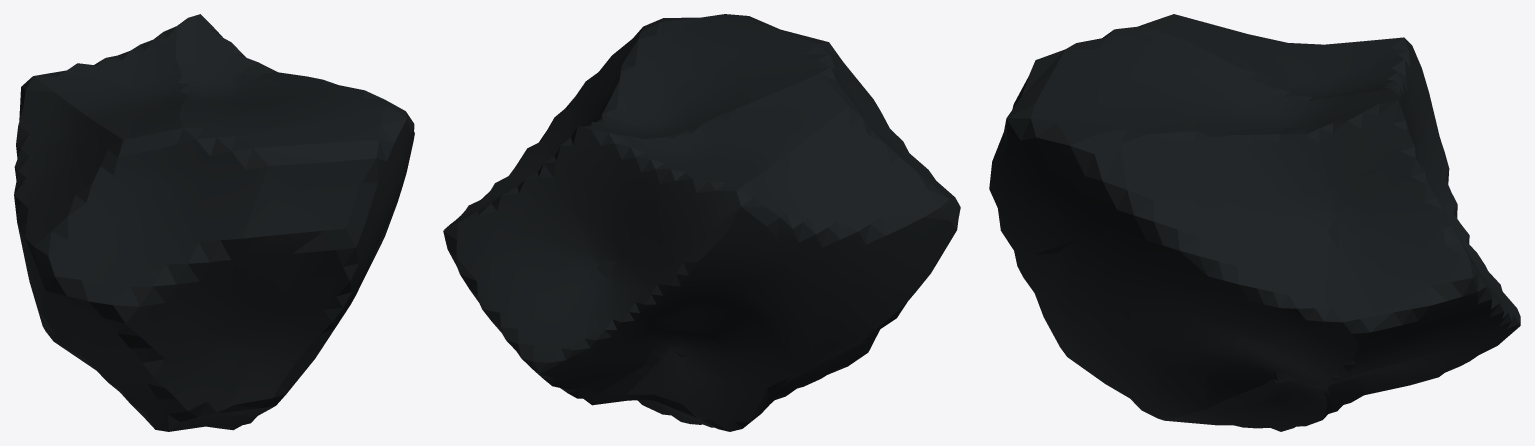
Rendered from Asteroid_h_03.FBX.
3 views of the same model, side by side, from view 1: azimuth 30°, elevation 25°; view 2: azimuth 150°, elevation 25°; view 3: azimuth 270°, elevation 25° (orthographic). The views are drawn at different scales.
Visible parts, largest first — view 1: Asteroid_h_03; view 2: Asteroid_h_03; view 3: Asteroid_h_03.
Boxes of the visible parts, box(x1,y1,x2,y2) form: Asteroid_h_03: box(14, 14, 414, 431); Asteroid_h_03: box(443, 14, 960, 431); Asteroid_h_03: box(989, 14, 1520, 431).
Size of the model in its own units: 3936 by 3042 by 3979.
